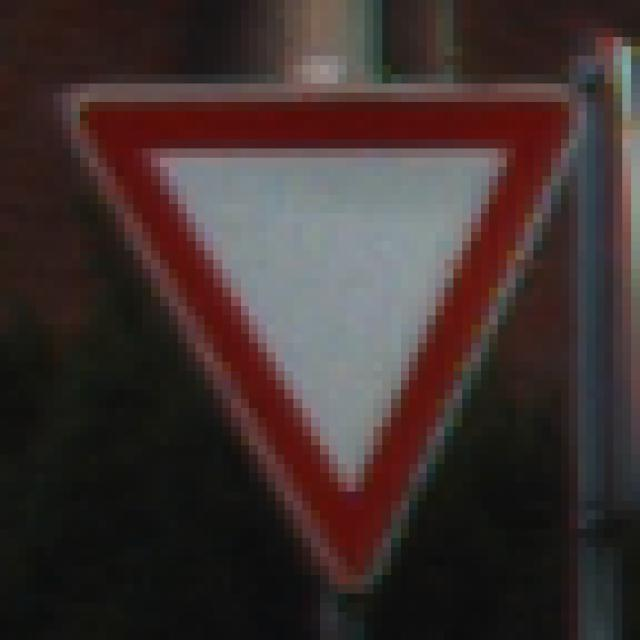Give Way: (54, 57, 588, 576)
